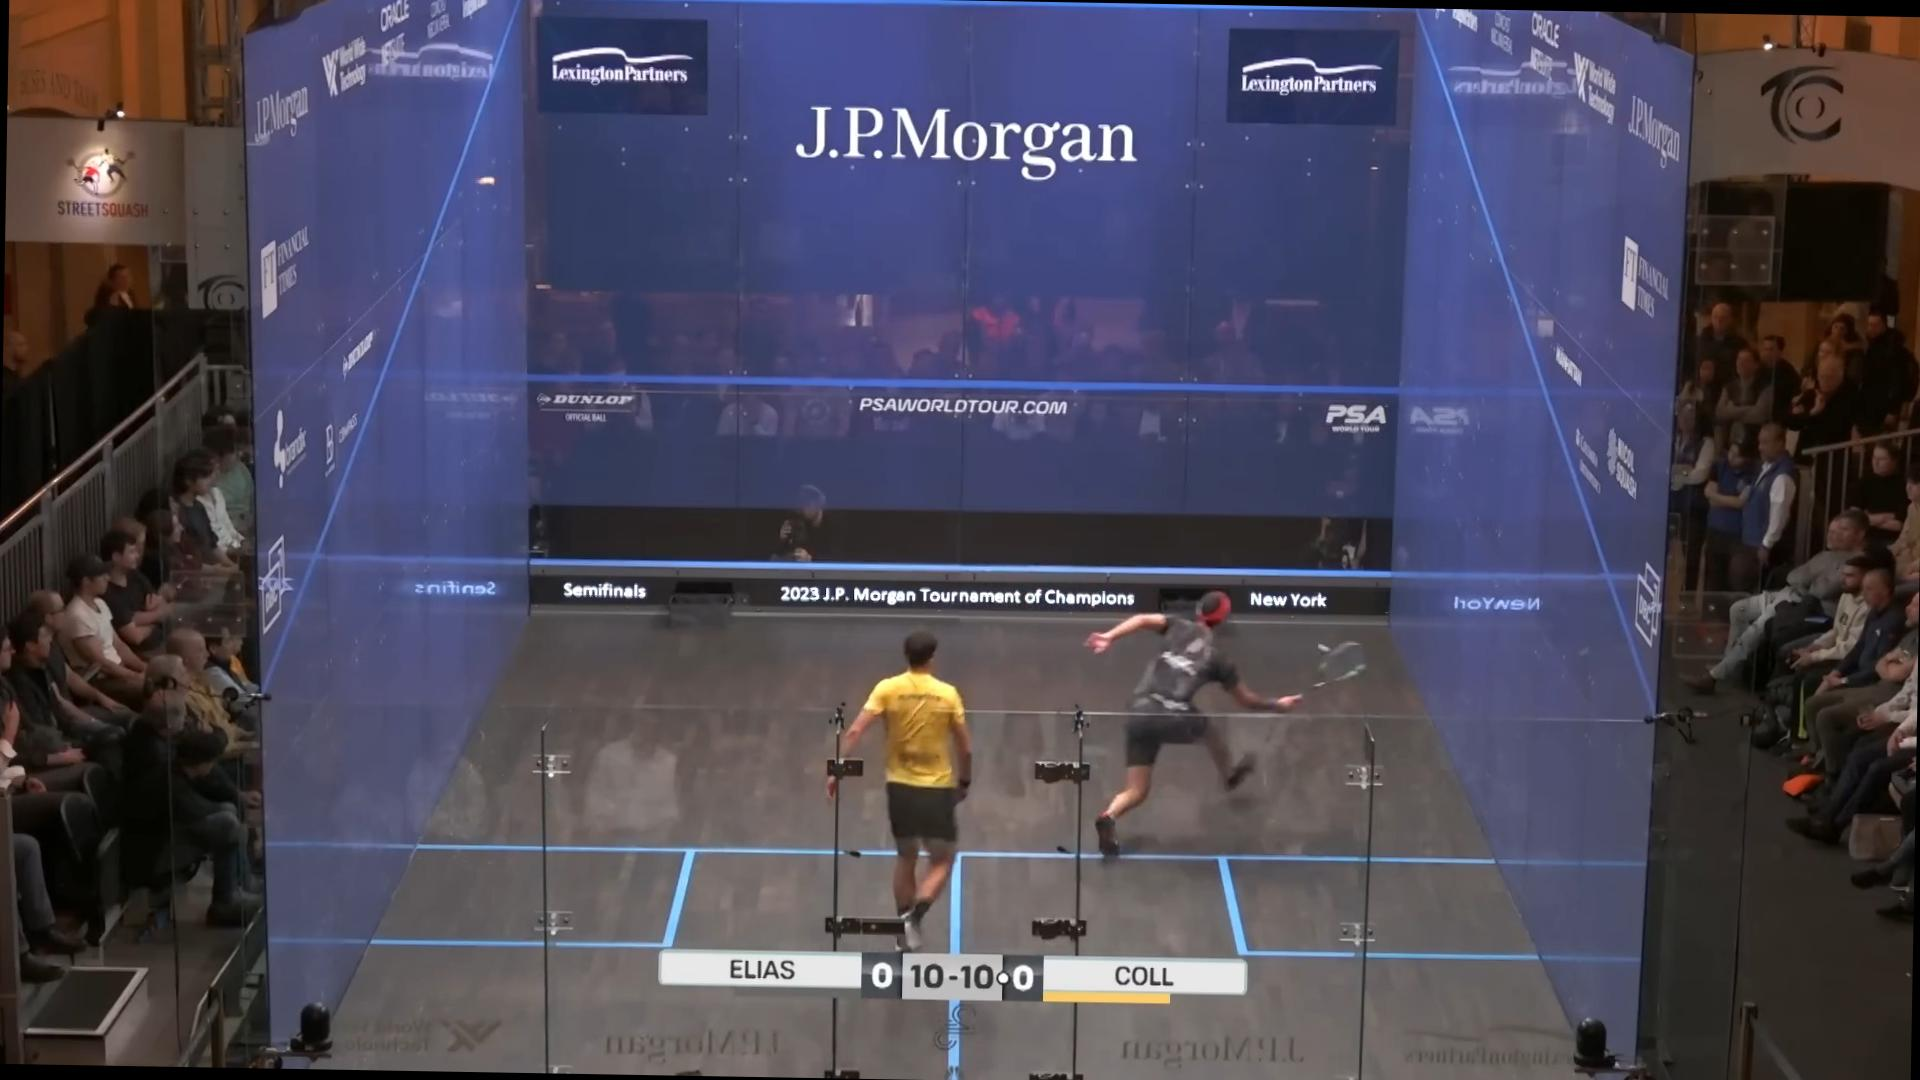Racket: (1278, 630, 1379, 713)
